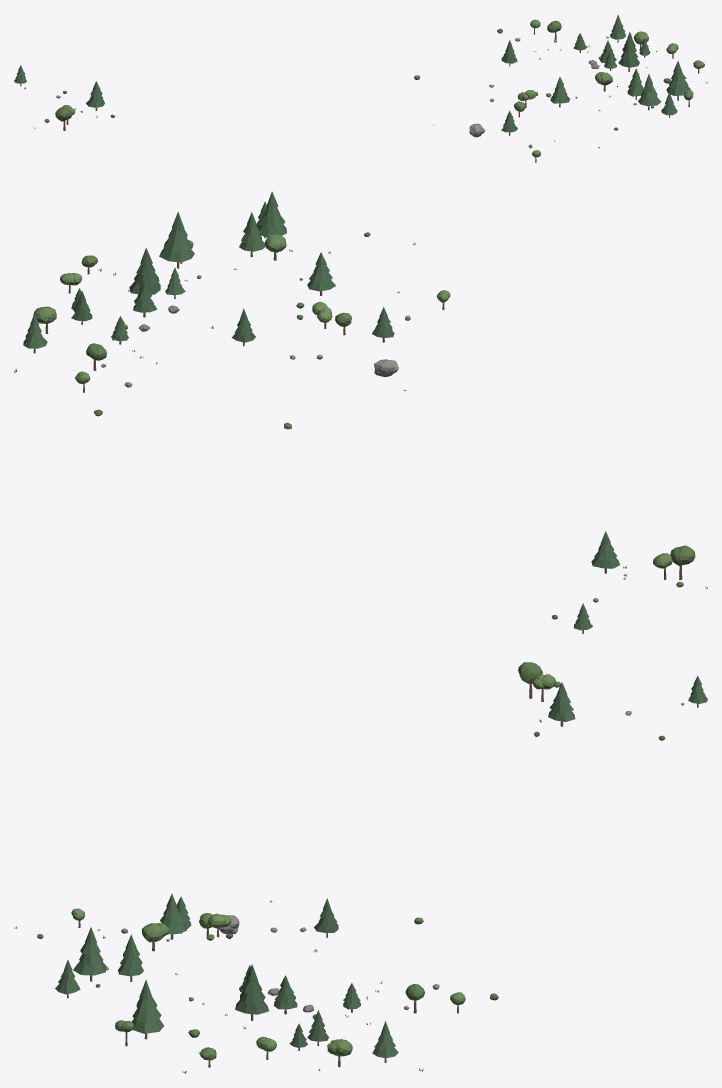
The model's file is arch_land_scatter_c19_18.glb.
3 renders of one model, top to bottom at view 1: azimuth 30°, elevation 25°; view 2: azimuth 150°, elevation 25°; view 3: azimuth 270°, elevation 25°, orthographic. The views are drawn at different scales.
Visible parts, largest first — view 1: arch_land_scatter_c19_18; view 2: arch_land_scatter_c19_18; view 3: arch_land_scatter_c19_18.
Part boxes in pixels (x1,y1,x2,y2): arch_land_scatter_c19_18: (14, 14, 707, 162); arch_land_scatter_c19_18: (14, 191, 707, 633); arch_land_scatter_c19_18: (14, 662, 707, 1073).
Size of the model in its own units: 243 by 27.74 by 178.
